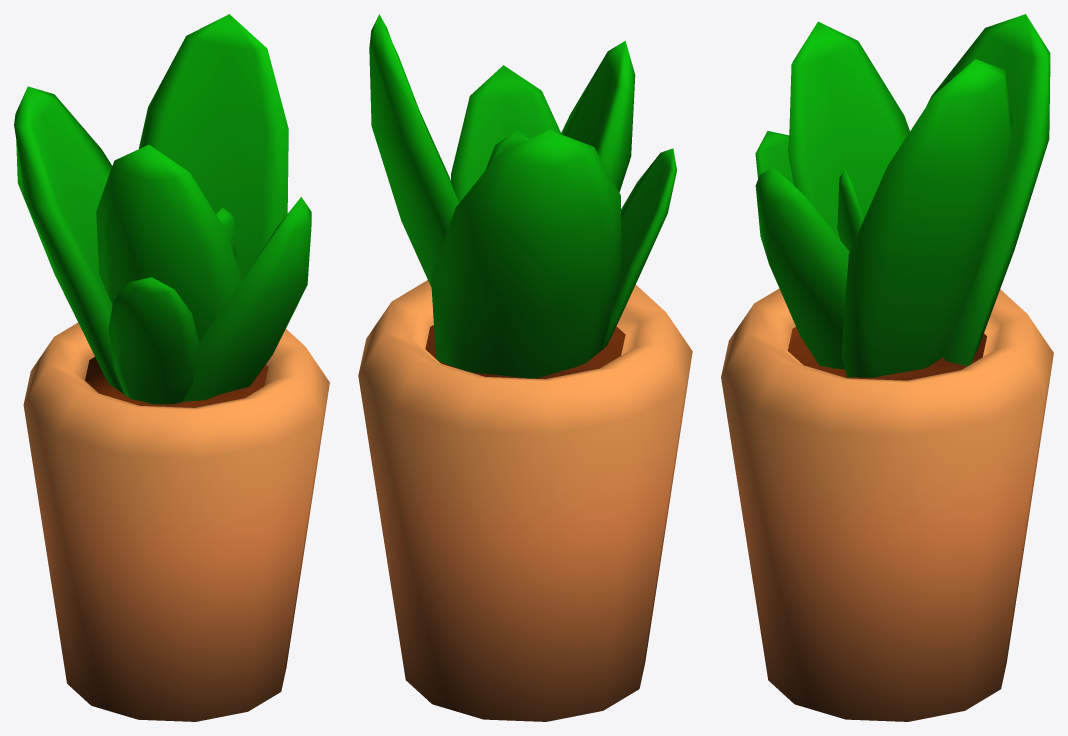
The model's file is Plant.fbx.
The picture shows the model from 3 angles, left to right: view 1: azimuth 30°, elevation 25°; view 2: azimuth 150°, elevation 25°; view 3: azimuth 270°, elevation 25°; orthographic projection. The views are drawn at different scales.
Parts seen in each view (by area): view 1: Plant; view 2: Plant; view 3: Plant.
Boxes of the visible parts, box(x1,y1,x2,y2) form: Plant: box(14, 14, 329, 721); Plant: box(358, 14, 692, 721); Plant: box(721, 14, 1053, 721).
Bounding box in the file's own units: 30.25 × 66.35 × 30.25.
1 material, 1 textured.
